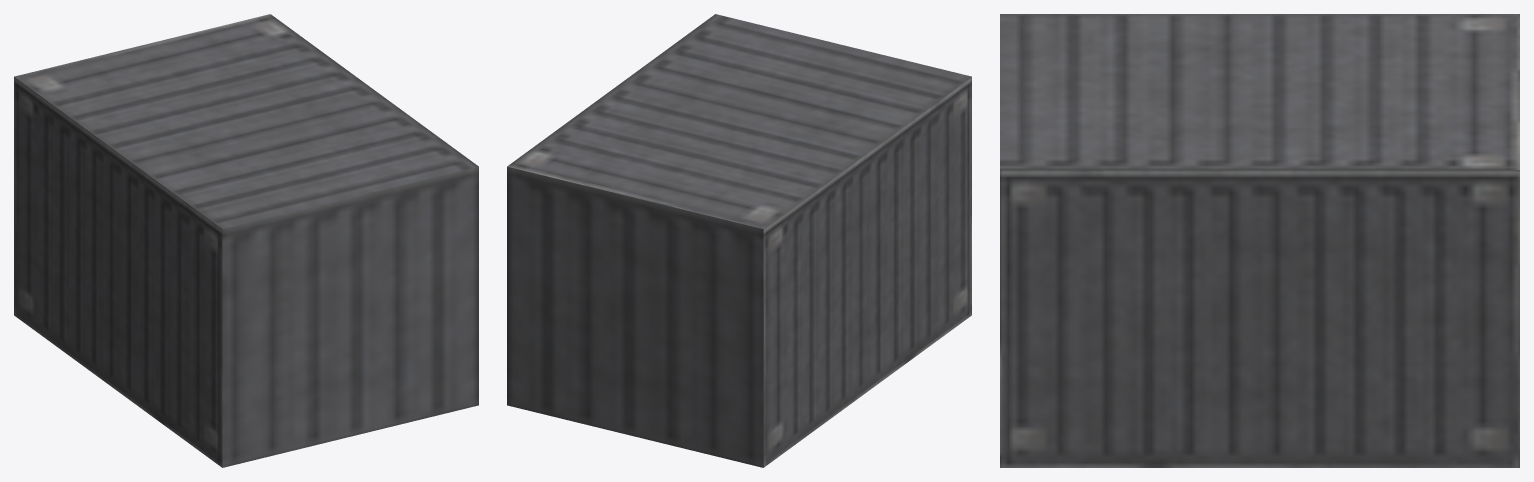
3 renders of one model, left to right at view 1: azimuth 30°, elevation 25°; view 2: azimuth 150°, elevation 25°; view 3: azimuth 270°, elevation 25°, orthographic. The views are drawn at different scales.
Visible parts, largest first — view 1: truck-grey-cargo; view 2: truck-grey-cargo; view 3: truck-grey-cargo.
Boxes of the visible parts, box(x1,y1,x2,y2) form: truck-grey-cargo: box(14, 14, 478, 467); truck-grey-cargo: box(507, 14, 971, 467); truck-grey-cargo: box(1000, 14, 1519, 467).
Size of the model in its own units: 0.83 by 0.7384 by 1.17.
Materials: 1 (1 with a texture image).
